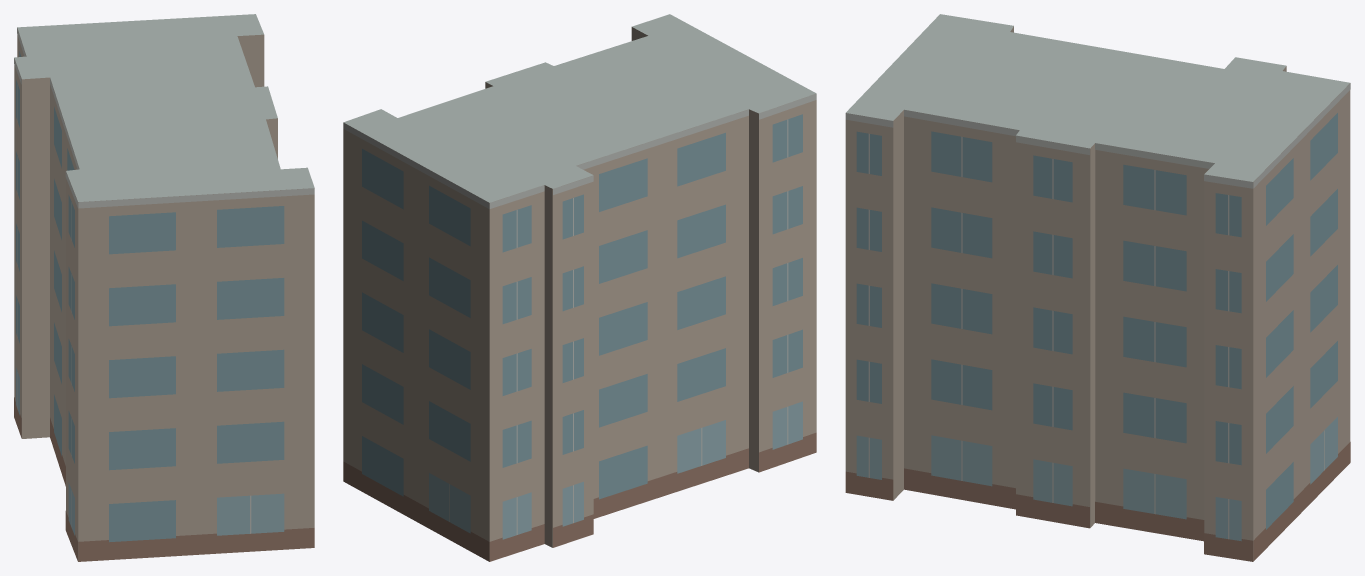
Rendered from survey-upis-32751675.glb.
3 views of the same model, side by side, from view 1: azimuth 30°, elevation 25°; view 2: azimuth 150°, elevation 25°; view 3: azimuth 270°, elevation 25° (orthographic). The views are drawn at different scales.
Parts seen in each view (by area): view 1: survey-upis-32751675.tmp; view 2: survey-upis-32751675.tmp; view 3: survey-upis-32751675.tmp.
Boxes of the visible parts, left/top/right/bottom form: survey-upis-32751675.tmp: left=14, top=14, right=314, bottom=561; survey-upis-32751675.tmp: left=343, top=14, right=816, bottom=561; survey-upis-32751675.tmp: left=845, top=14, right=1350, bottom=561.
Size of the model in its own units: 13 by 13.7 by 16.51.
